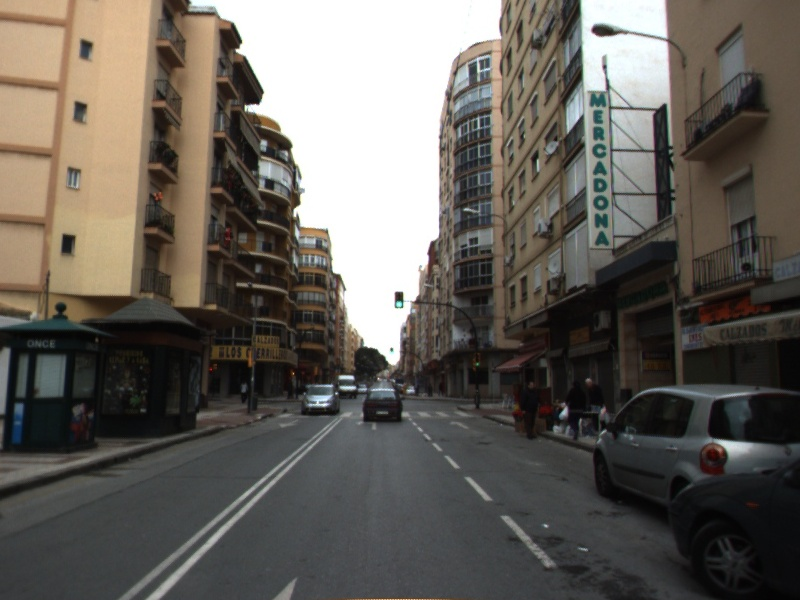LEFT: (354, 419, 378, 431)
STRAIGHT: (448, 419, 471, 430)
